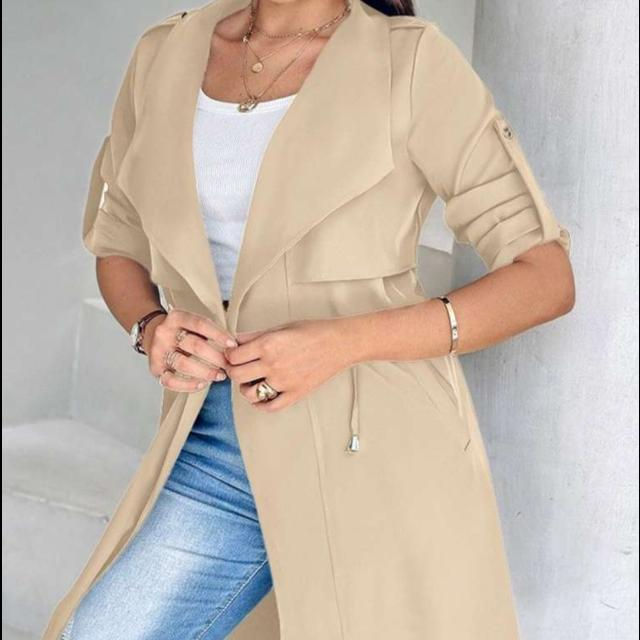jacket: (79, 18, 531, 636)
